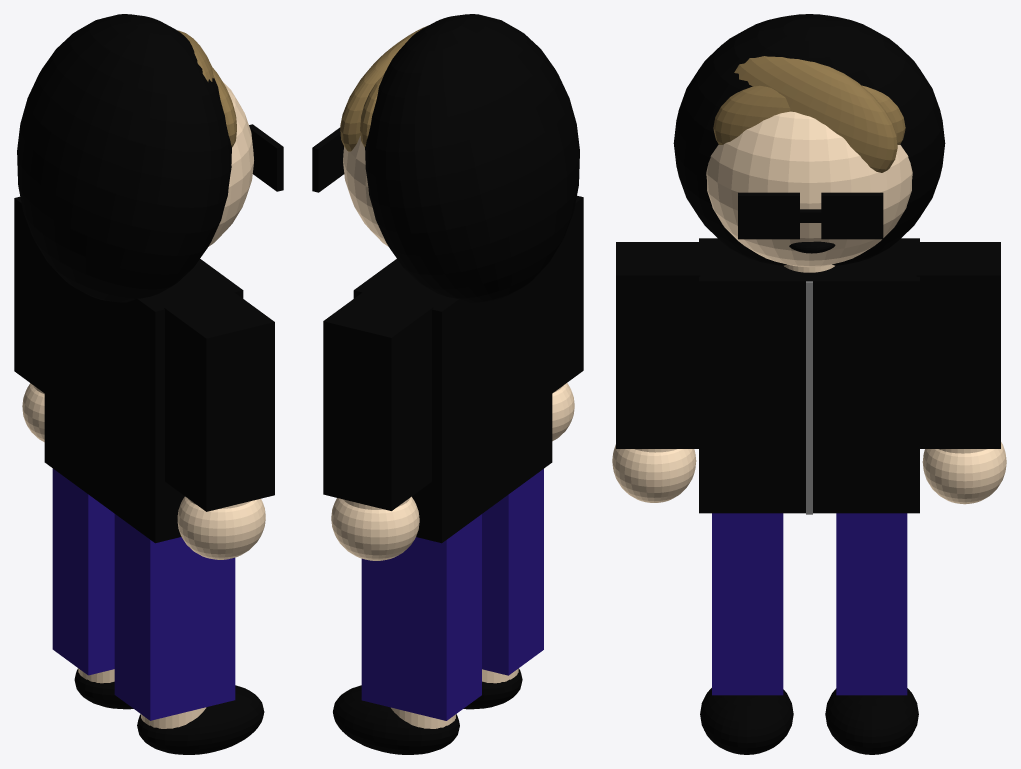
File: Darrell.fbx
3 renders of one model, left to right at view 1: azimuth 30°, elevation 25°; view 2: azimuth 150°, elevation 25°; view 3: azimuth 270°, elevation 25°, orthographic.
Visible parts, largest first — view 1: Sphere.007, Cube.001, Cube.008, Cube.004, Cube.005, Sphere.018, Cube.007, Sphere.015, Sphere, Cube.002, Sphere.019, Sphere.014 (+2 smaller); view 2: Sphere.007, Cube.001, Cube.007, Cube.005, Cube.004, Sphere.019, Cube.008, Sphere.014, Sphere.011, Sphere, Cube, Sphere.018 (+2 smaller); view 3: Cube.001, Sphere.007, Cube.008, Cube.007, Sphere, Cube.004, Cube.005, Sphere.011, Sphere.019, Sphere.018, Sphere.014, Sphere.015 (+4 smaller).
Part boxes in pixels (x1=…): Sphere.007: x1=17, y1=14, x2=231, y2=302; Cube.001: x1=44, y1=258, x2=243, y2=543; Cube.008: x1=164, y1=291, x2=274, y2=511; Cube.004: x1=114, y1=514, x2=235, y2=720; Cube.005: x1=52, y1=468, x2=114, y2=675; Sphere.018: x1=137, y1=685, x2=264, y2=754; Cube.007: x1=14, y1=196, x2=44, y2=392; Sphere.015: x1=177, y1=496, x2=265, y2=559; Sphere: x1=208, y1=81, x2=253, y2=246; Cube.002: x1=249, y1=124, x2=283, y2=191; Sphere.019: x1=74, y1=668, x2=133, y2=709; Sphere.014: x1=22, y1=383, x2=44, y2=442; Sphere.007: x1=365, y1=14, x2=579, y2=302; Cube.001: x1=353, y1=258, x2=552, y2=543; Cube.007: x1=323, y1=290, x2=433, y2=510; Cube.005: x1=361, y1=514, x2=481, y2=720; Cube.004: x1=482, y1=469, x2=543, y2=675; Sphere.019: x1=333, y1=685, x2=459, y2=754; Cube.008: x1=552, y1=195, x2=583, y2=393; Sphere.014: x1=331, y1=496, x2=419, y2=560; Sphere.011: x1=340, y1=25, x2=427, y2=151; Sphere: x1=343, y1=136, x2=388, y2=246; Cube: x1=312, y1=127, x2=344, y2=192; Sphere.018: x1=463, y1=668, x2=522, y2=709; Cube.001: x1=699, y1=238, x2=919, y2=513; Sphere.007: x1=673, y1=14, x2=945, y2=265; Cube.008: x1=616, y1=242, x2=700, y2=448; Cube.007: x1=916, y1=242, x2=1000, y2=448; Sphere: x1=706, y1=111, x2=912, y2=267; Cube.004: x1=712, y1=513, x2=783, y2=695; Cube.005: x1=836, y1=513, x2=907, y2=695; Sphere.011: x1=734, y1=56, x2=897, y2=172; Sphere.019: x1=825, y1=688, x2=918, y2=754; Sphere.018: x1=700, y1=688, x2=793, y2=754; Sphere.014: x1=922, y1=442, x2=1006, y2=504; Sphere.015: x1=612, y1=444, x2=696, y2=502.
Bounding box in the file's own units: 217 × 707 × 357.
